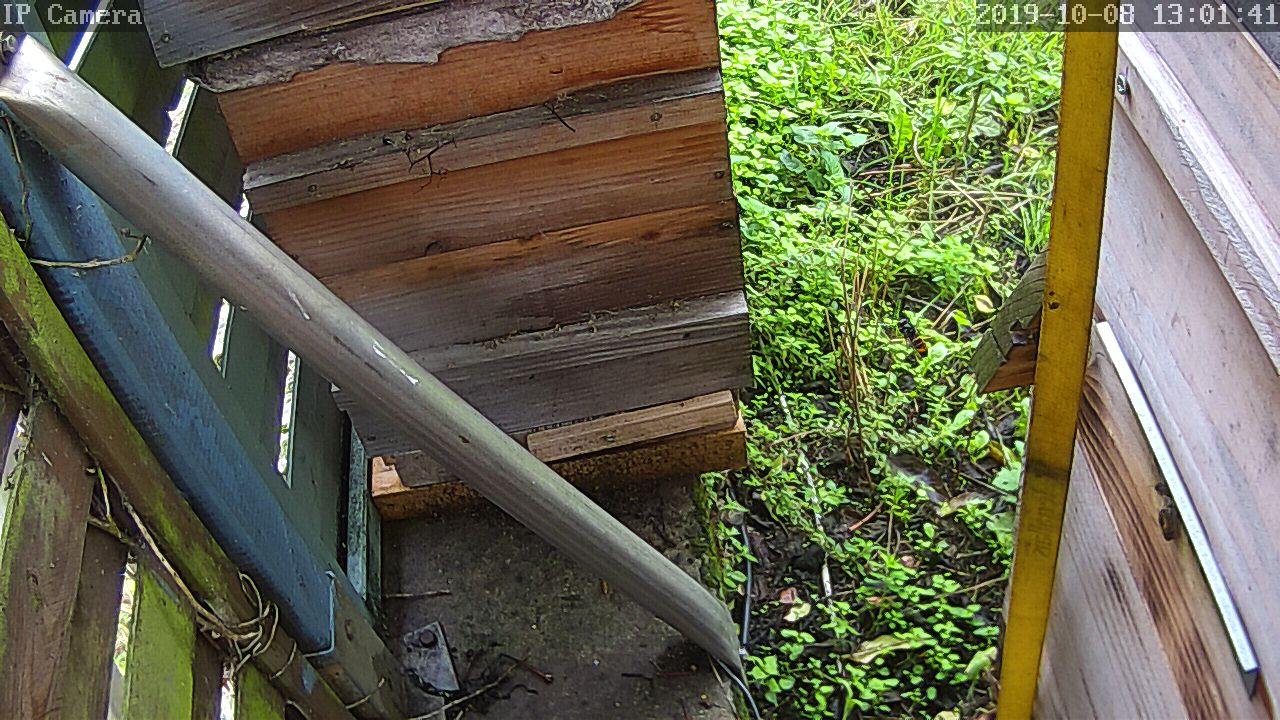bee: (1146, 496, 1193, 545)
hornet: (892, 309, 933, 357)
